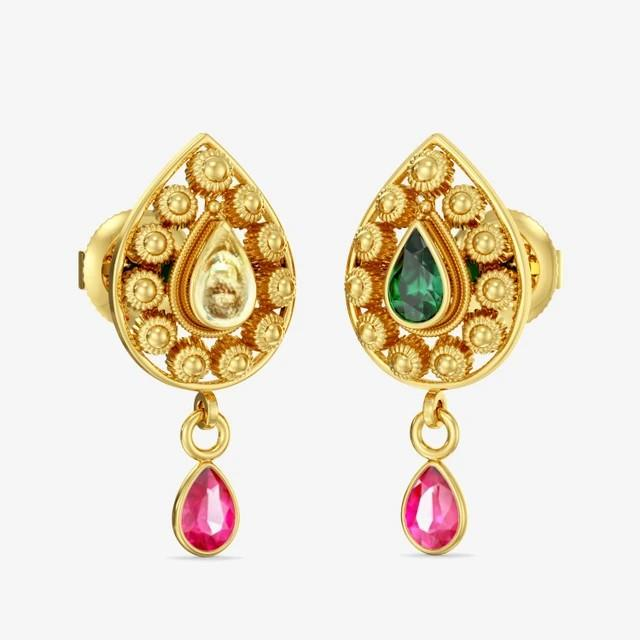missing gem: (197, 230, 249, 320)
